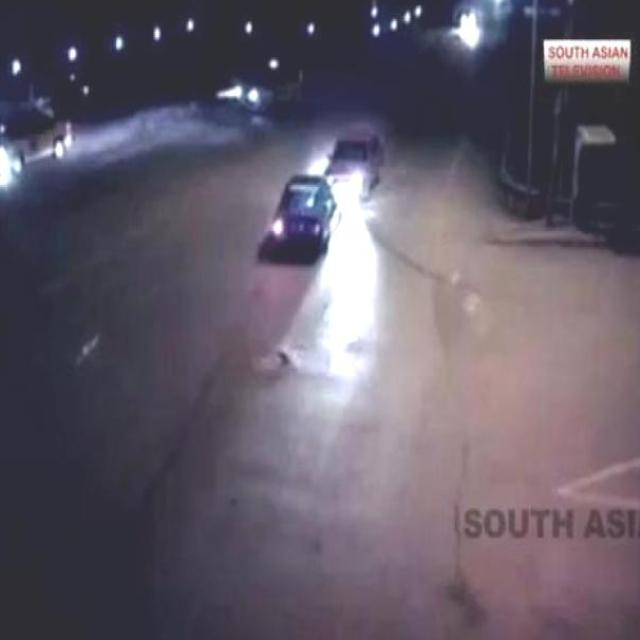accident: (263, 124, 391, 264)
